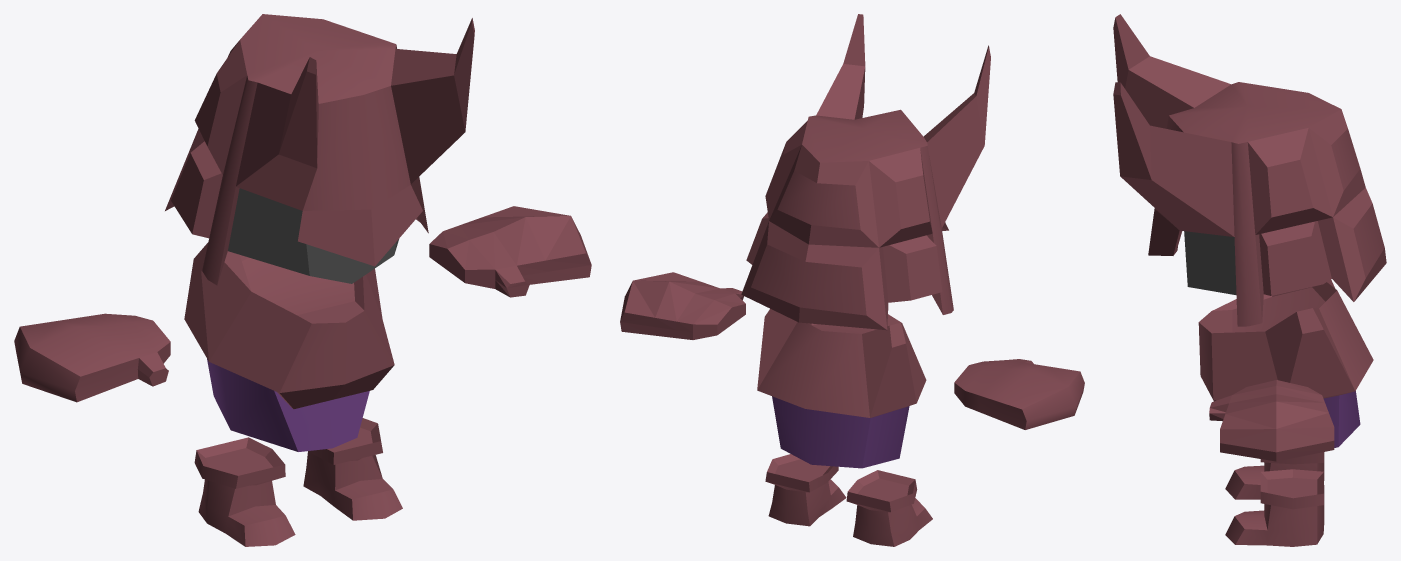
File: tala_enemy.fbx
3 renders of one model, left to right at view 1: azimuth 30°, elevation 25°; view 2: azimuth 150°, elevation 25°; view 3: azimuth 270°, elevation 25°, orthographic. The views are drawn at different scales.
Visible parts, largest first — view 1: copy1, copy2, copy4, copy3, copy6, copy5; view 2: copy1, copy2, copy4, copy3, copy6, copy5; view 3: copy1, copy2, copy3, copy5, copy6.
Boxes of the visible parts, bbox=[...] form: copy1: bbox=[165, 14, 474, 285]; copy2: bbox=[184, 242, 394, 451]; copy4: bbox=[14, 313, 170, 402]; copy3: bbox=[429, 206, 591, 297]; copy6: bbox=[194, 437, 295, 546]; copy5: bbox=[303, 418, 402, 520]; copy1: bbox=[741, 14, 990, 330]; copy2: bbox=[757, 308, 926, 468]; copy4: bbox=[954, 359, 1084, 429]; copy3: bbox=[620, 272, 745, 339]; copy6: bbox=[846, 470, 932, 546]; copy5: bbox=[765, 454, 846, 526]; copy1: bbox=[1113, 14, 1386, 326]; copy2: bbox=[1198, 279, 1373, 447]; copy3: bbox=[1209, 380, 1334, 461]; copy5: bbox=[1225, 469, 1324, 546]; copy6: bbox=[1225, 452, 1324, 499].
Bounding box in the file's own units: 22.02 × 20.23 × 10.81.
